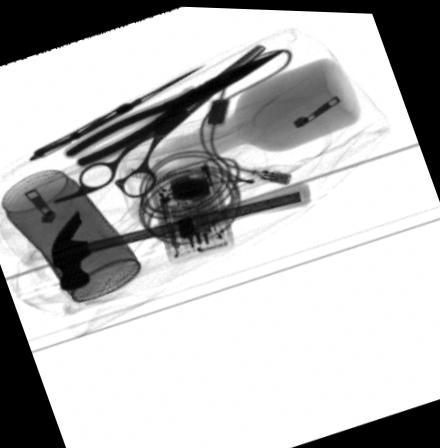Hammer: (51, 177, 311, 290)
Knife: (28, 59, 209, 163)
Pliers: (62, 47, 287, 167)
Scissors: (52, 39, 268, 203)
